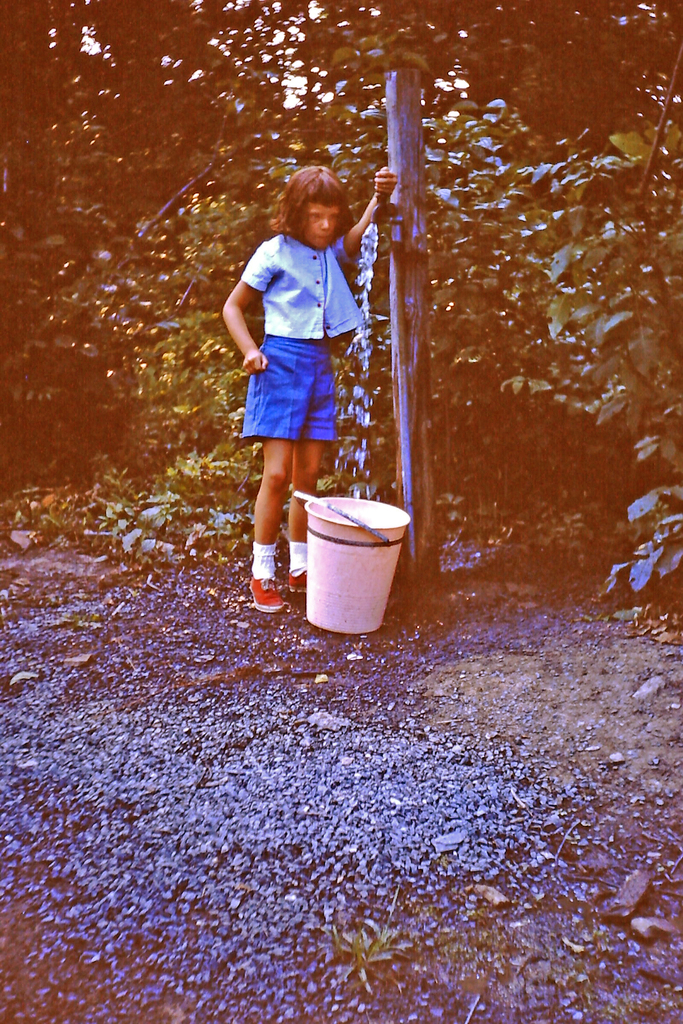person: (221, 161, 397, 612)
